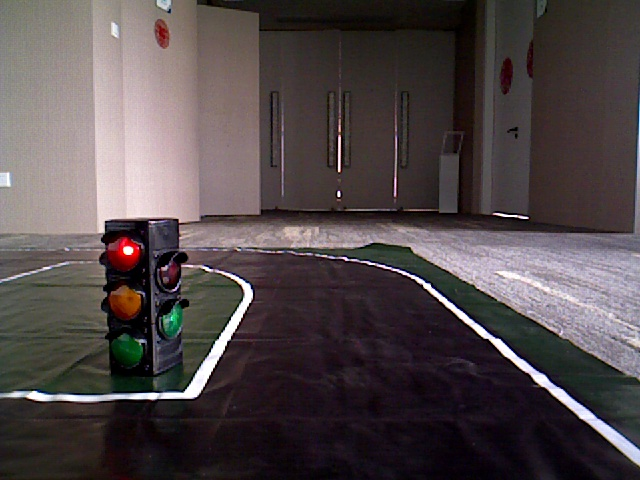red: (104, 220, 156, 371)
